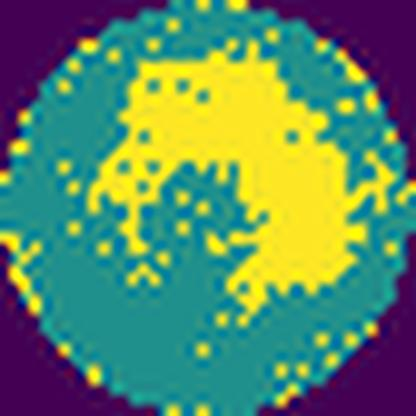Donut: (82, 44, 398, 336)
